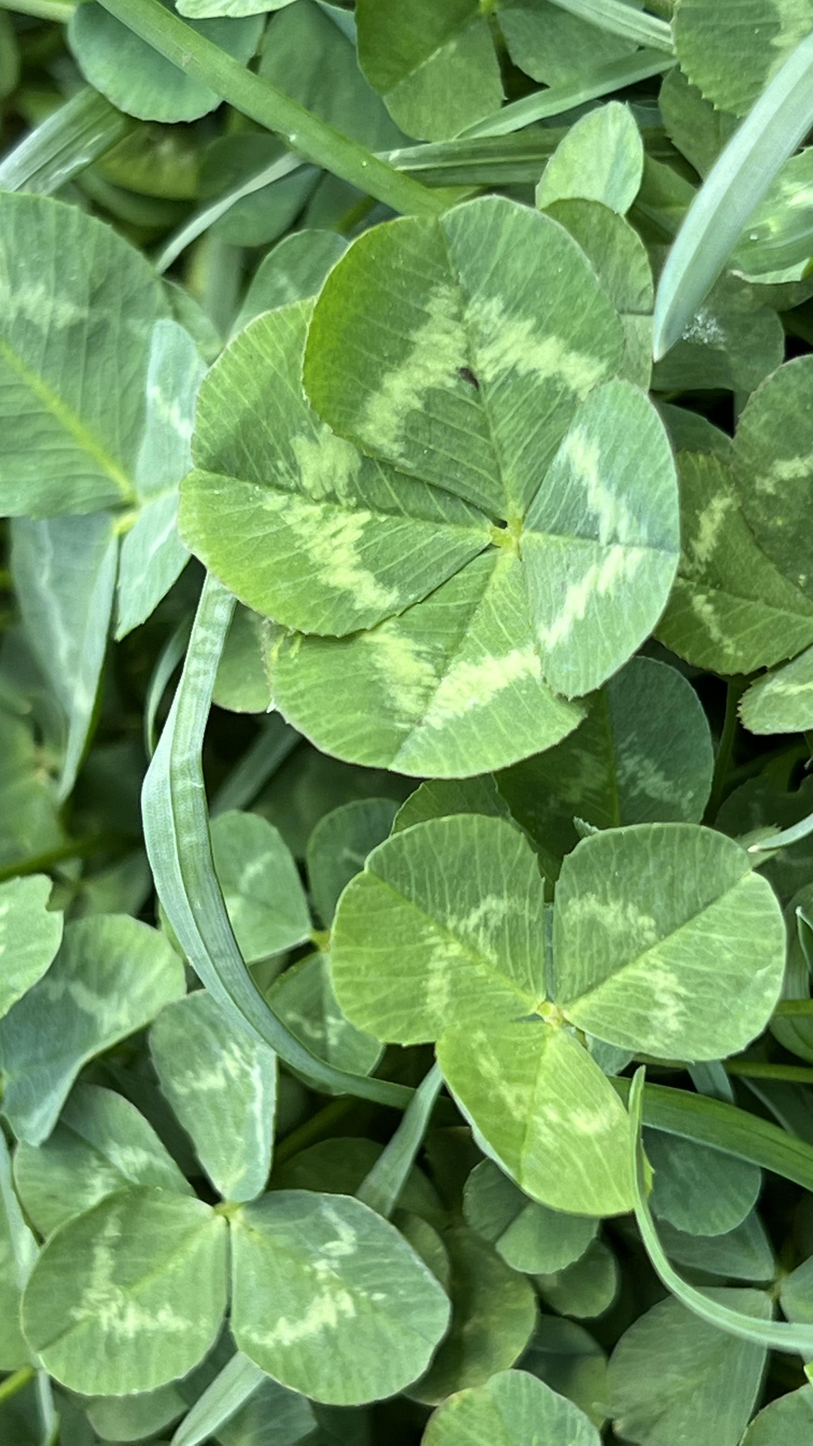4-Leaf-Clovers: (116, 240, 436, 1098)
